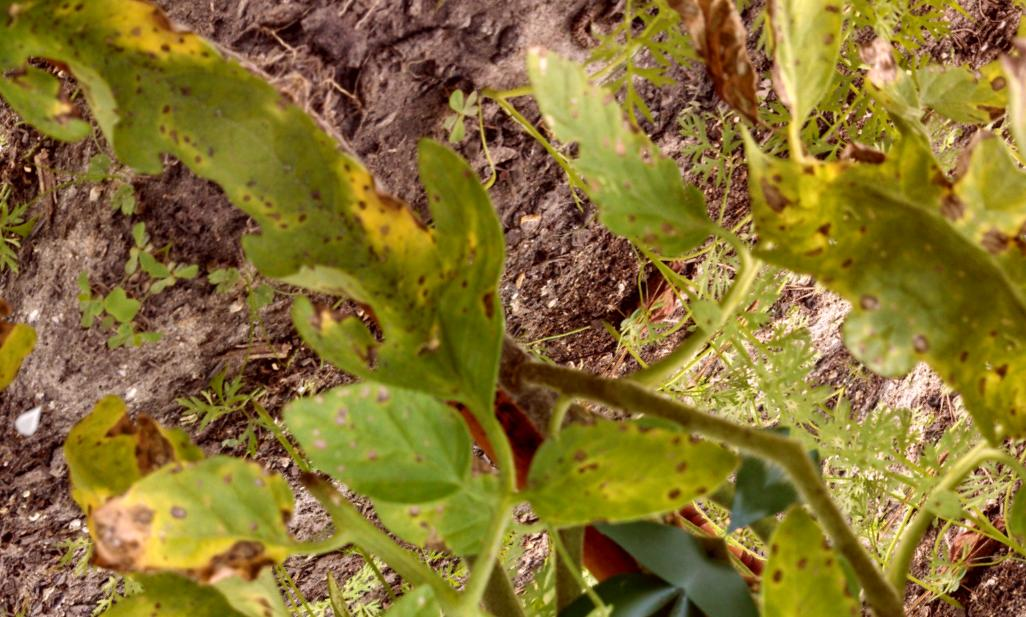Tomato Septoria leaf spot: (160, 44, 609, 480), (430, 0, 798, 324), (489, 336, 756, 605), (251, 315, 513, 567), (82, 388, 369, 617), (68, 495, 325, 617)
